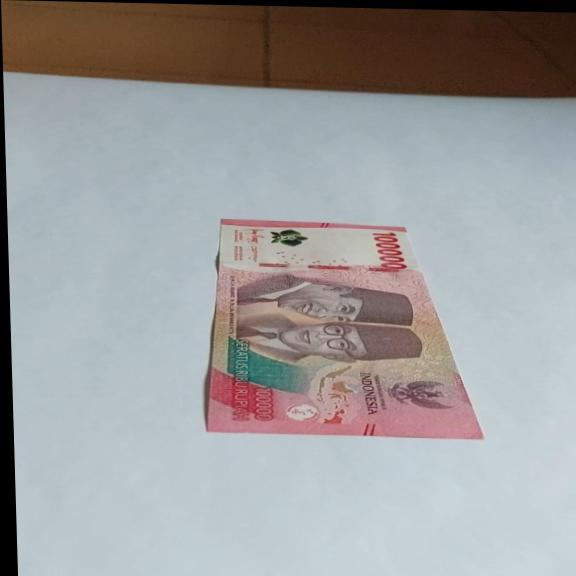Kertas: (198, 217, 485, 441), (372, 231, 409, 270)
